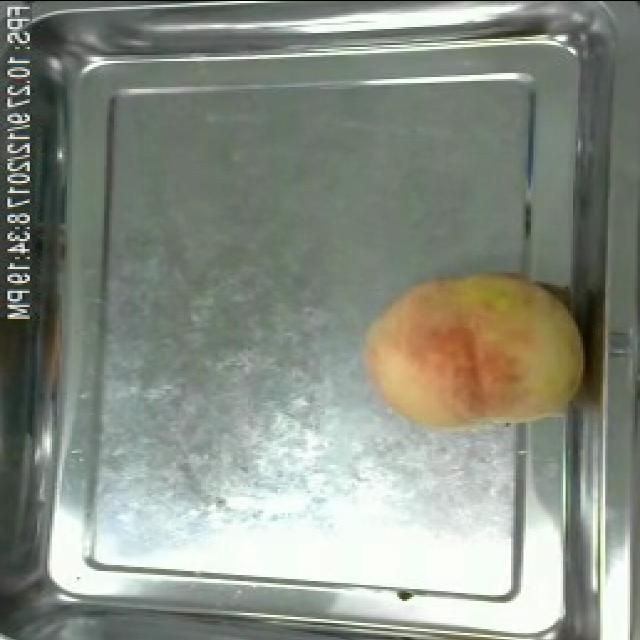Fruit: (350, 262, 593, 446)
